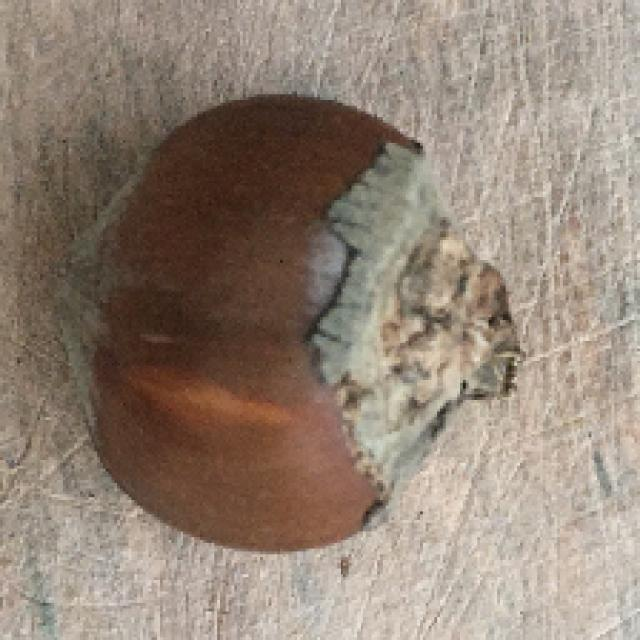damagedHazelnut: (73, 88, 512, 564)
